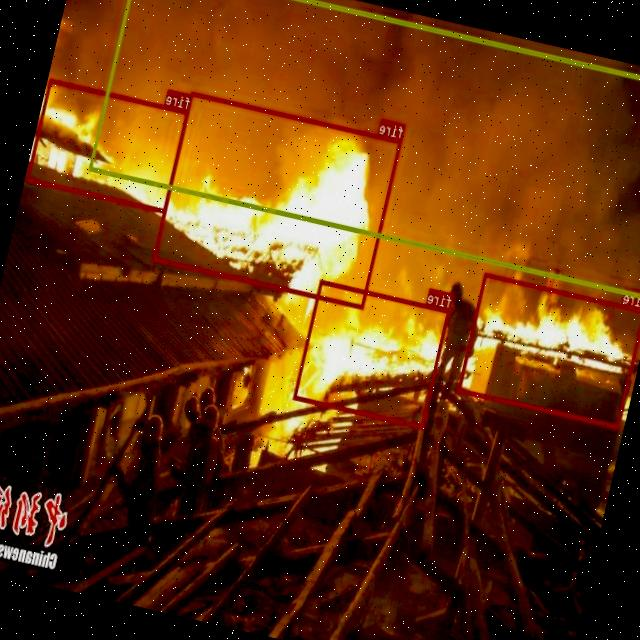fire: (152, 92, 402, 308), (457, 271, 640, 428), (294, 278, 451, 428), (27, 78, 190, 212)
smoke: (89, 0, 640, 298)
